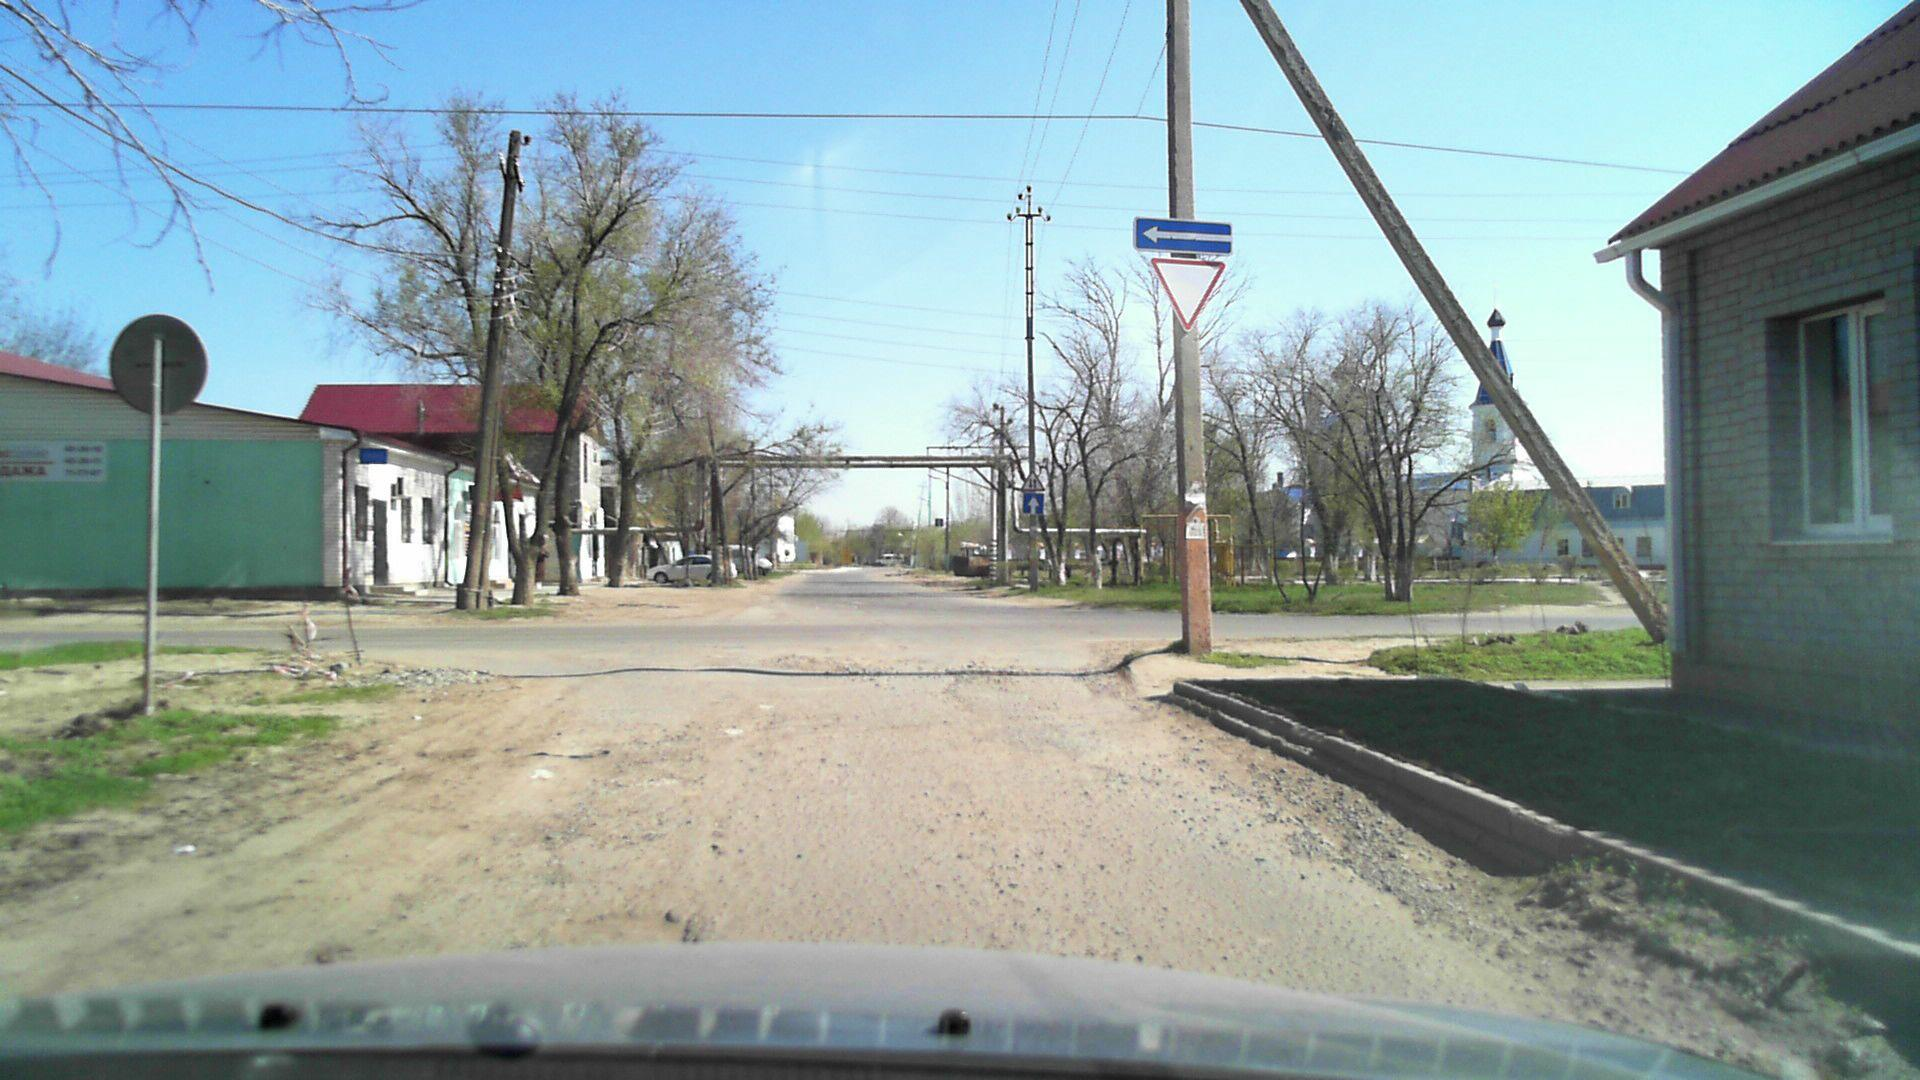1_21: (1021, 468, 1046, 492)
2_4: (1147, 255, 1226, 340)
5_5: (1017, 495, 1046, 517)
5_6: (931, 514, 944, 529)
5_7_2: (1131, 218, 1232, 255)
